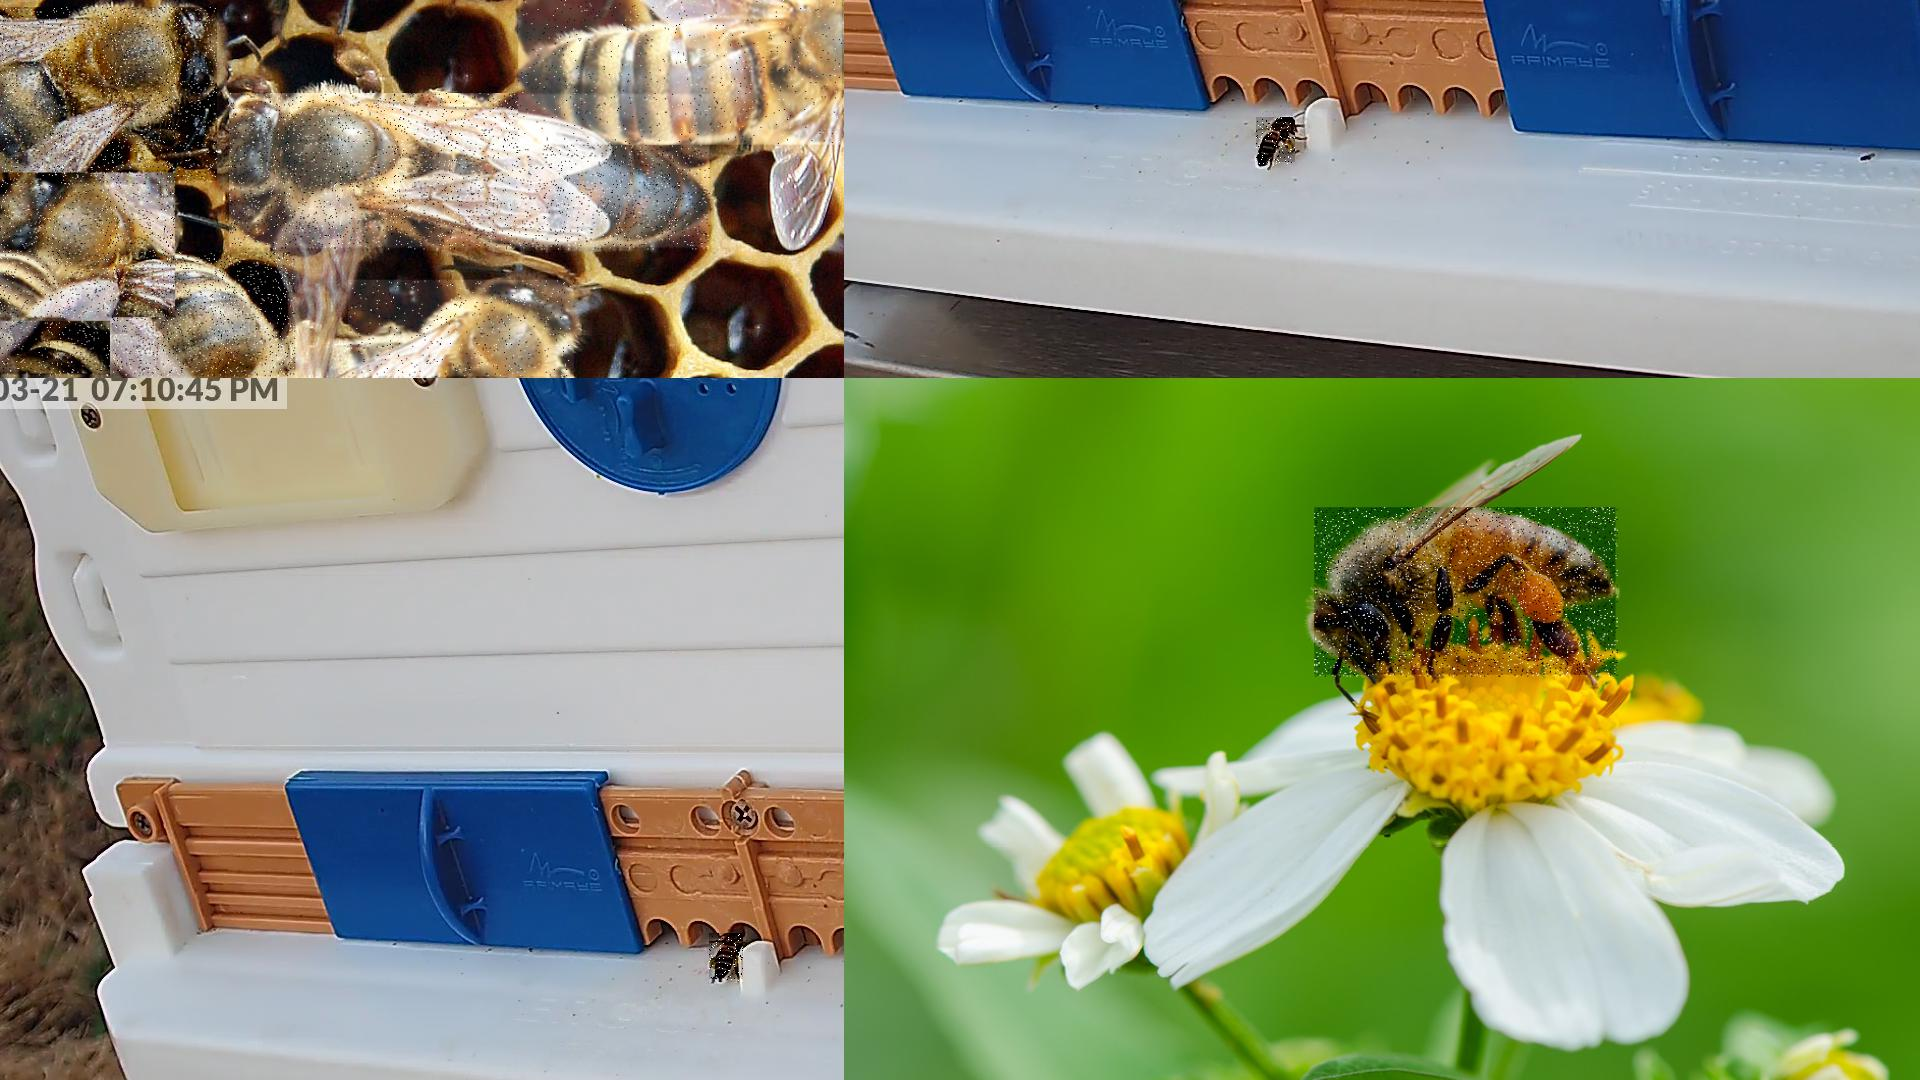bee: (518, 0, 843, 146), (0, 8, 218, 185), (0, 175, 175, 319), (112, 252, 297, 377), (348, 280, 575, 377), (0, 320, 112, 377)
pollenbee: (1315, 508, 1619, 678), (1257, 117, 1296, 166), (709, 934, 744, 982)
queen: (229, 94, 711, 252)
